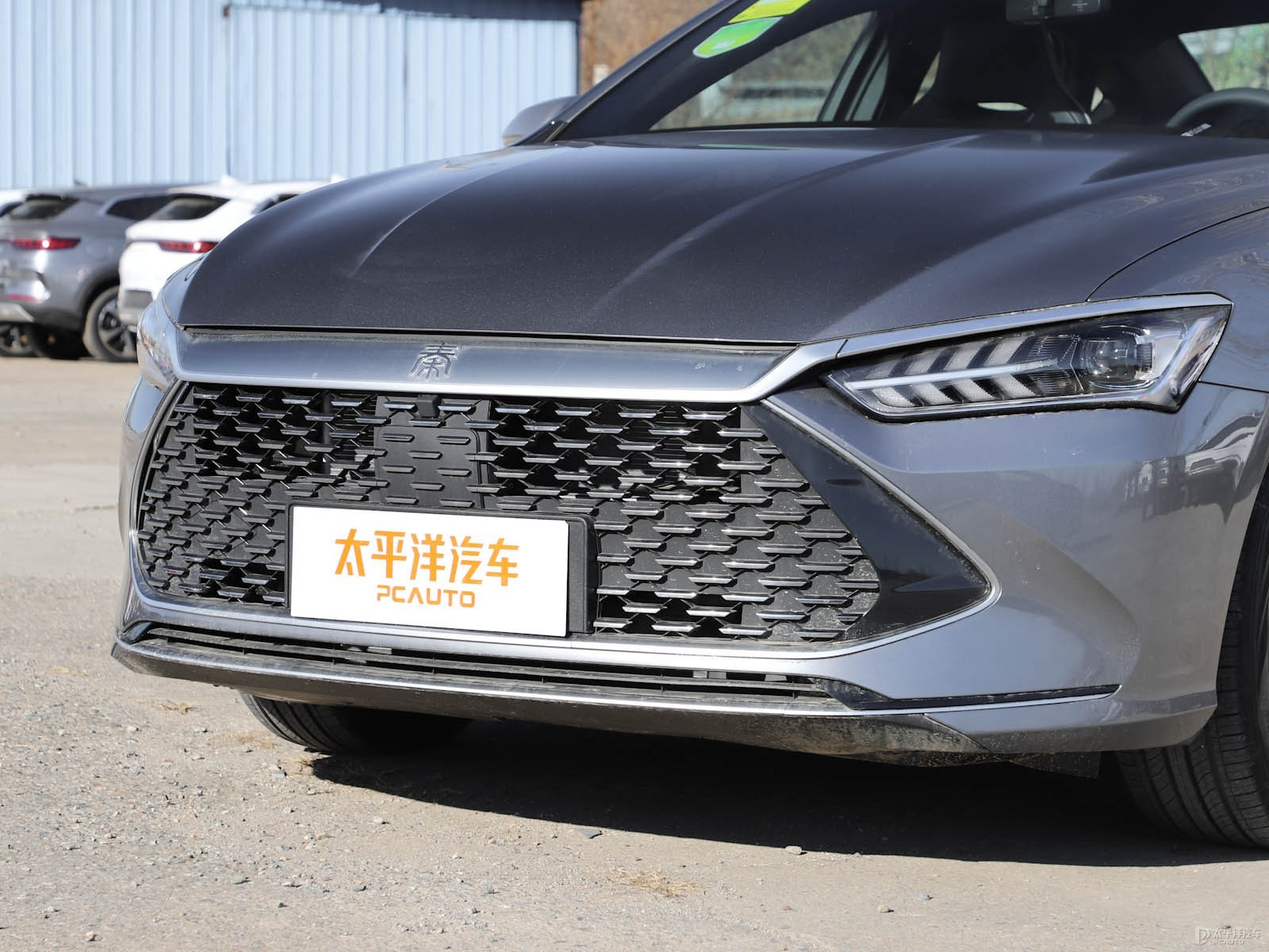BYD Qin: (411, 344, 457, 379)
